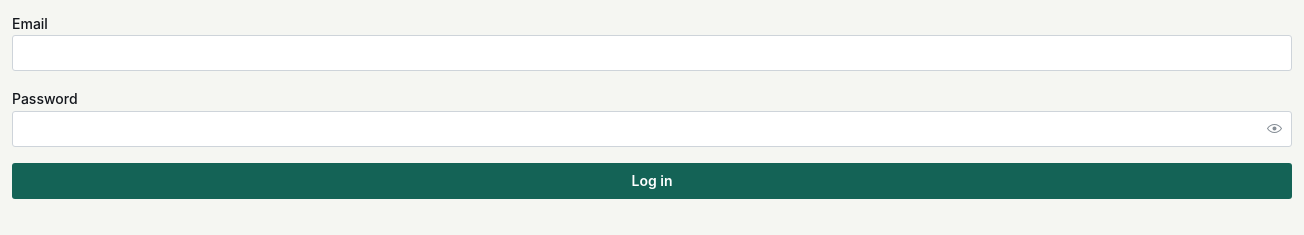
Test: LoginForm › blocks submission and shows a visible error when the password is blank
In the field labelled "Email": (652, 53) x1=12 y1=35 x2=1292 y2=71, type "priya@acme.com"
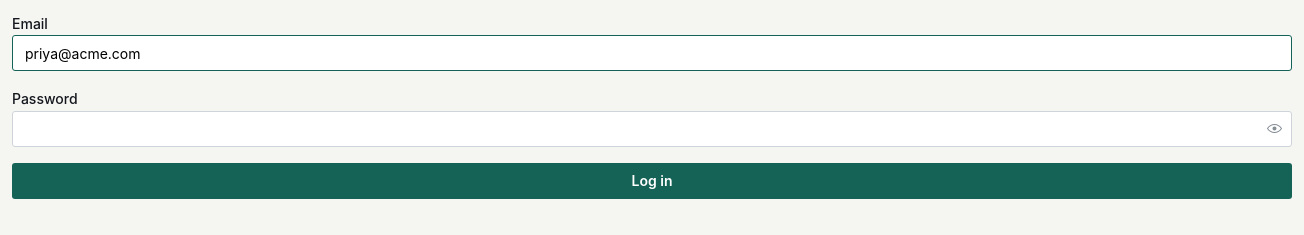
Click the button "Log in": (652, 180) x1=12 y1=162 x2=1292 y2=198
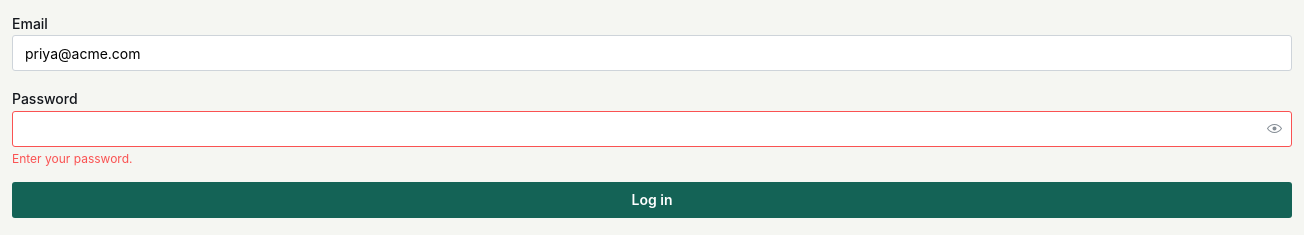
expect the text "Enter your password." is shown: met, box x1=12 y1=150 x2=132 y2=166
